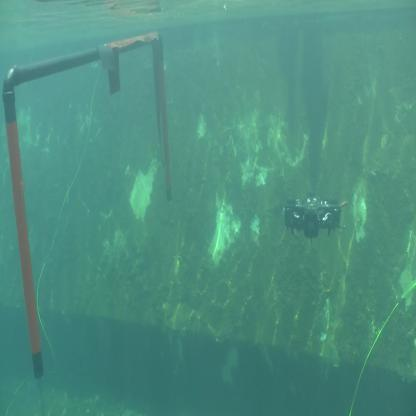gate: (4, 26, 183, 384)
